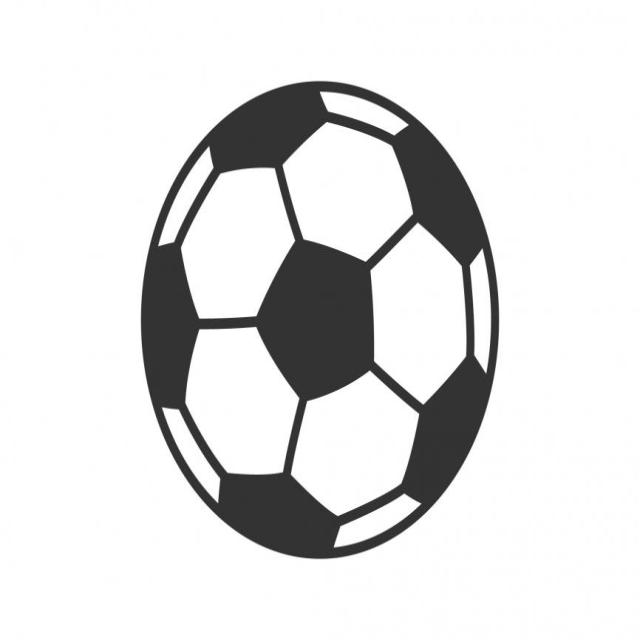Soccer Ball: (142, 85, 500, 558)
